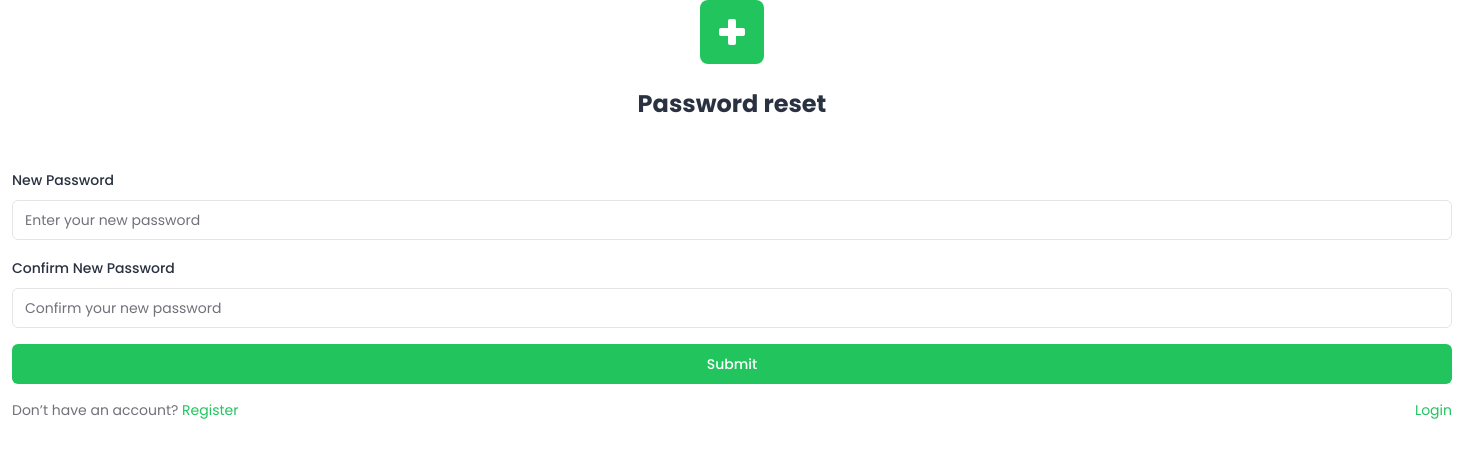
Test: ForgetForm Component › validates password match before submitting
# Typing different passwords
Type "newPassword123" into the password field with placeholder "Enter your new password" at (732, 220), box x1=12 y1=200 x2=1452 y2=240
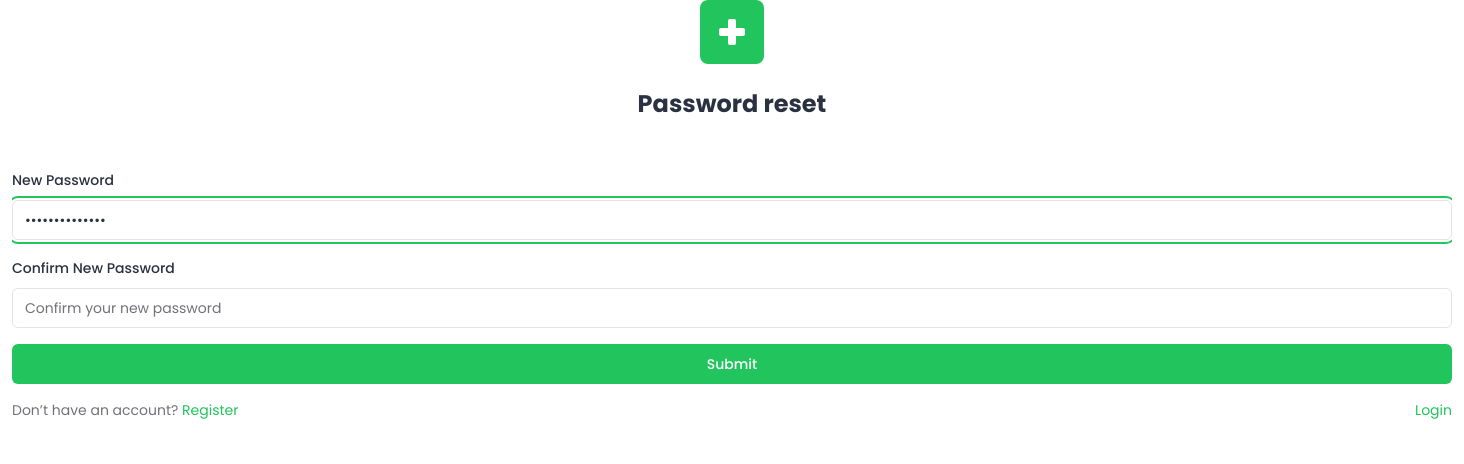
Type "differentPassword123" into the password field with placeholder "Confirm your new password" at (732, 308), box x1=12 y1=288 x2=1452 y2=328
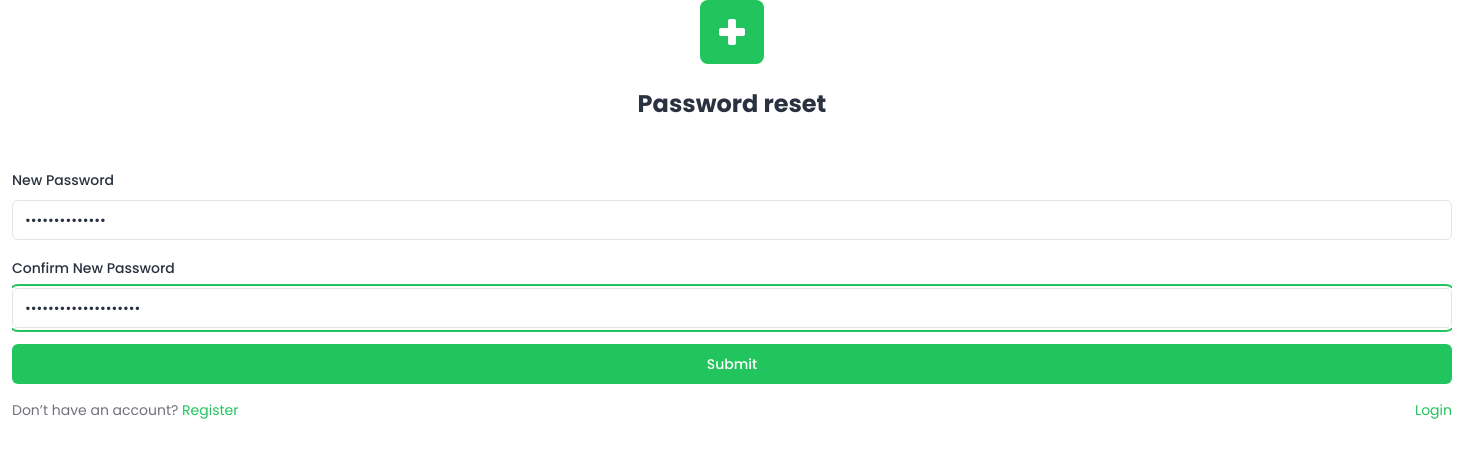
# Clicking the submit button
Click the button "Submit" at (732, 364), box x1=12 y1=344 x2=1452 y2=384
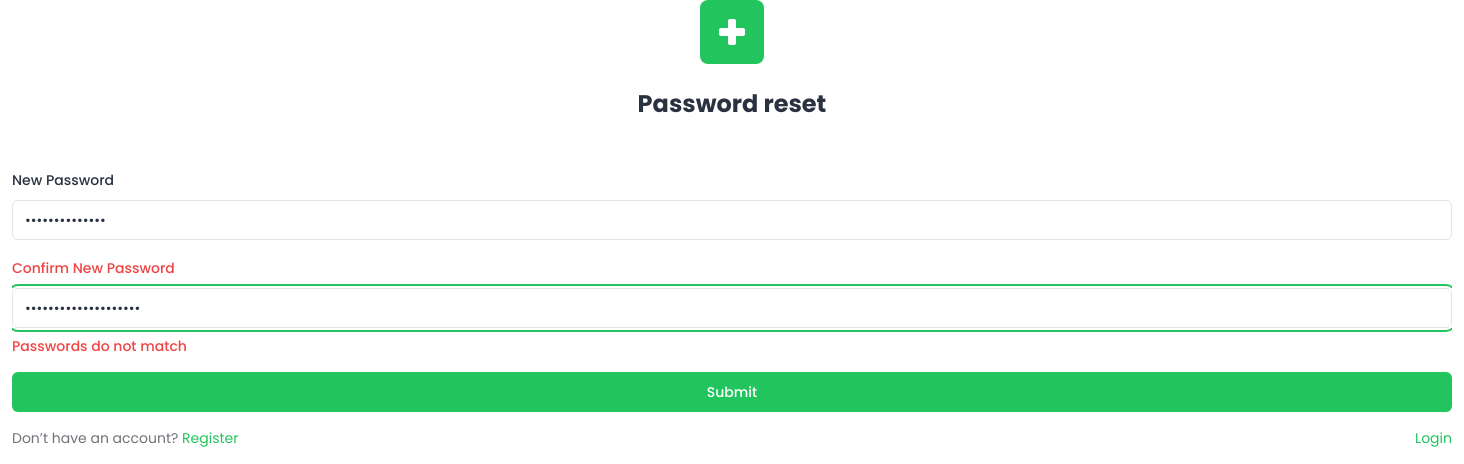
Check: the text "Passwords do not match" is shown, box x1=12 y1=336 x2=187 y2=356
